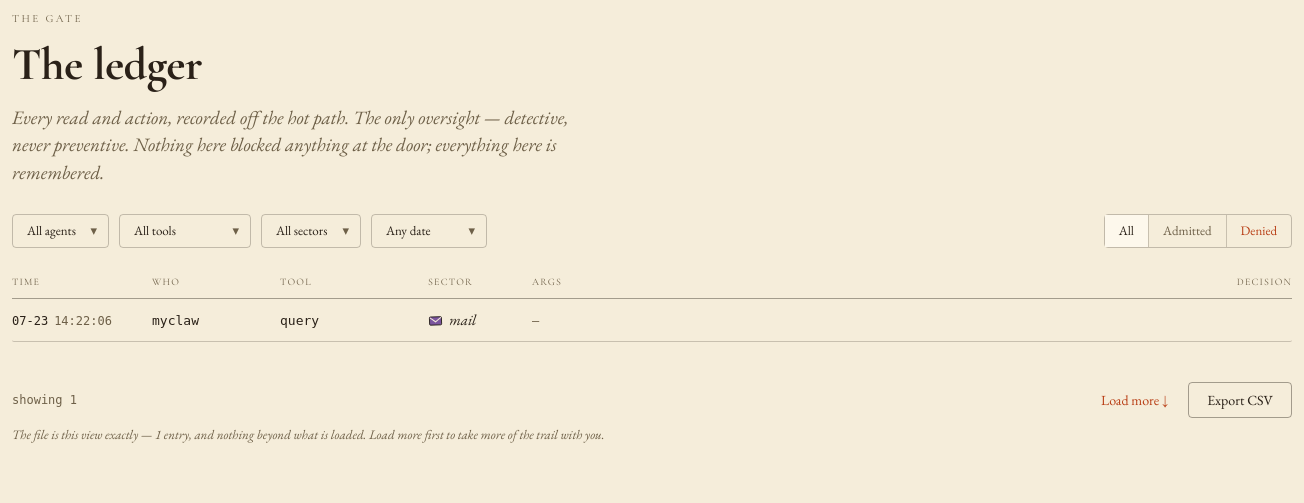
Test case: #61 part 2 — the pager walks the served cursor › Load more sends the cursor back VERBATIM as `before`, and the rows accumulate
Expected: the text "query" is shown, x1=280 y1=313 x2=319 y2=328
Click the button "Load more ↓". click: x=1135, y=400
box: x1=1101 y1=391 x2=1168 y2=409
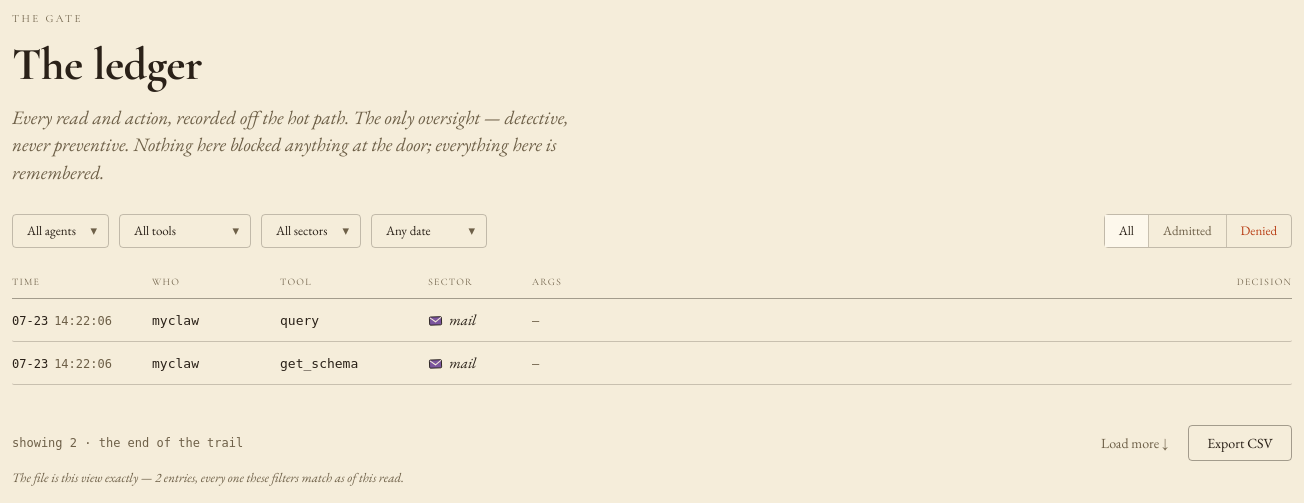
Expected: the text "get_schema" is shown, x1=280 y1=356 x2=358 y2=371
Expected: the text "showing 2 · the end of the trail" is shown, x1=12 y1=435 x2=243 y2=451
Expected: the button "Load more ↓" is disabled, x1=1101 y1=434 x2=1168 y2=452
